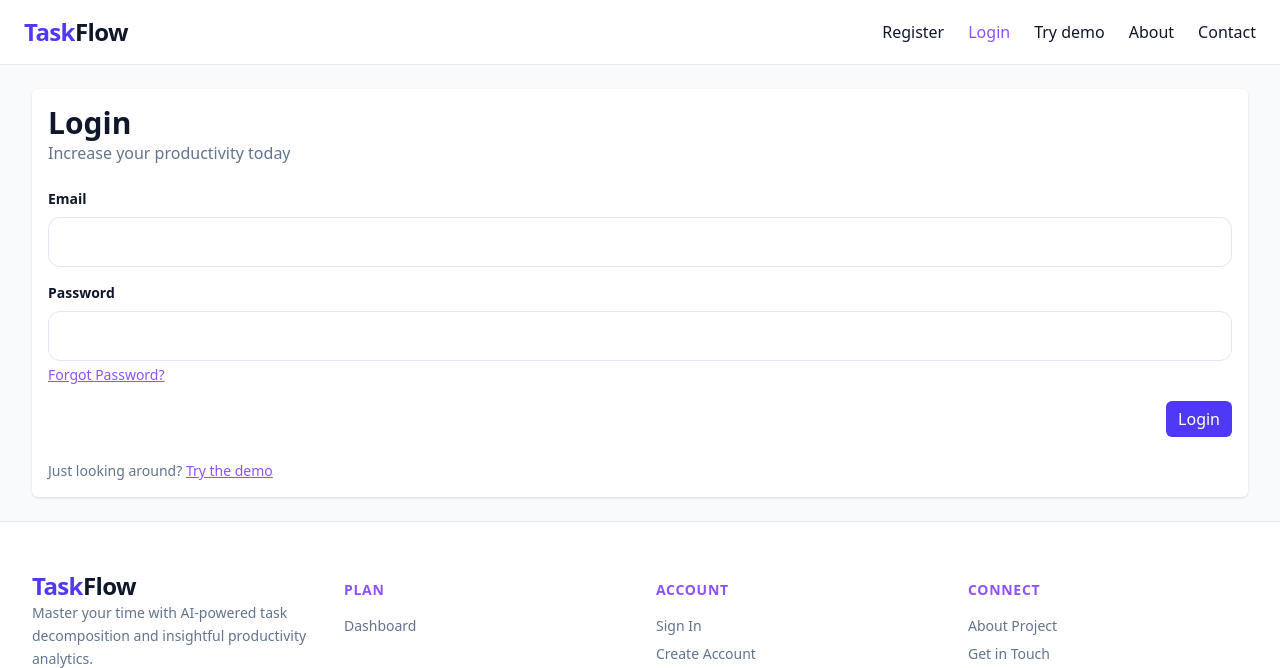
Test: signing in › shows a friendly message when the server is unavailable
Type "user@example.com" into the field labelled "Email".
click(640, 242); type("user@example.com")  # box [48,217,1232,267]
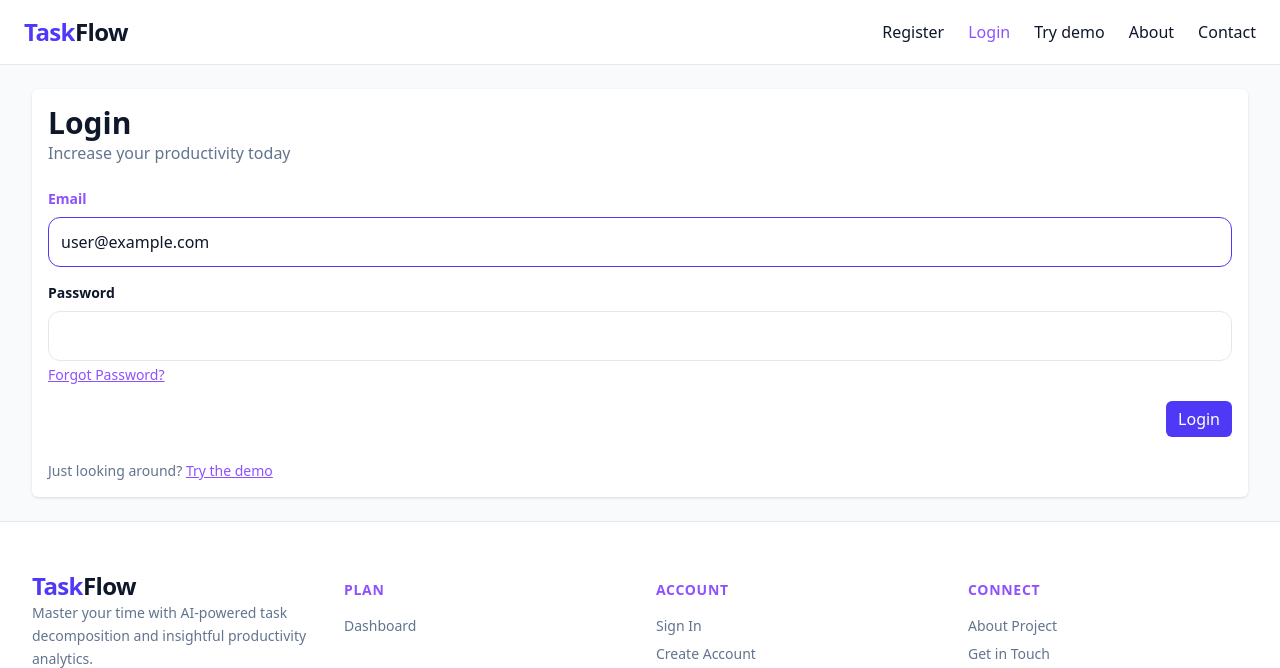
Type "Sturdy-pass9" into the password field labelled "Password".
click(640, 336); type("Sturdy-pass9")  # box [48,311,1232,361]
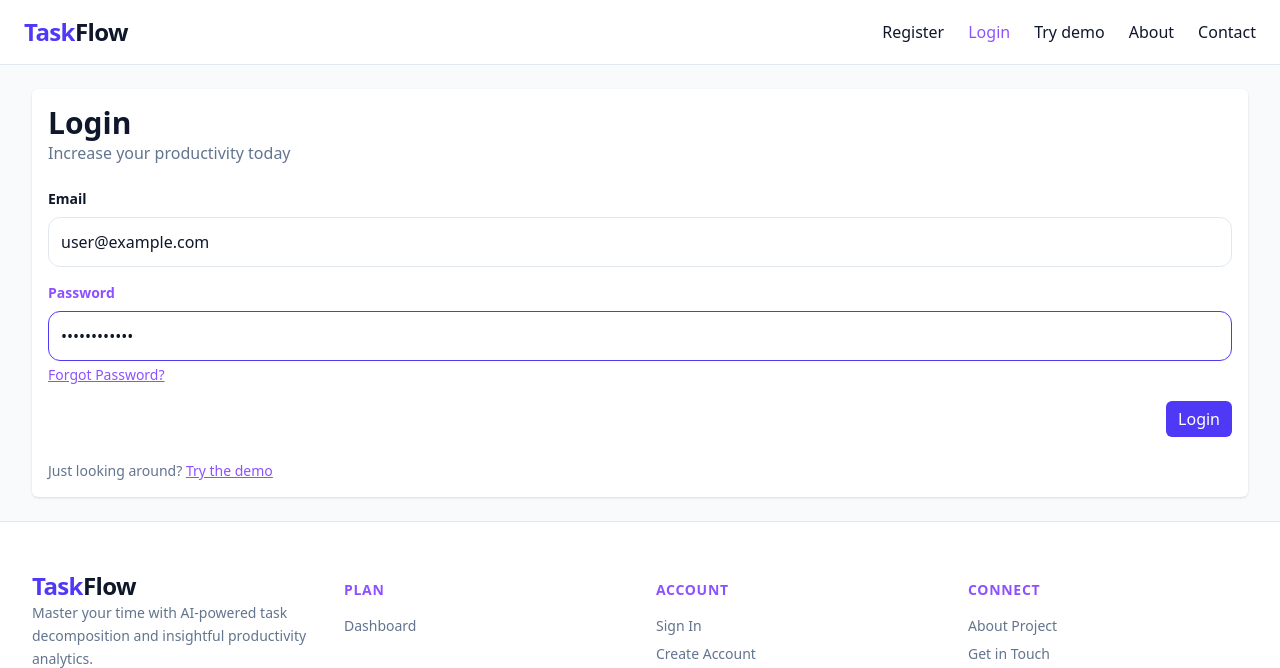
Click the button "Login".
click(1199, 419)  # box [1166,401,1232,437]
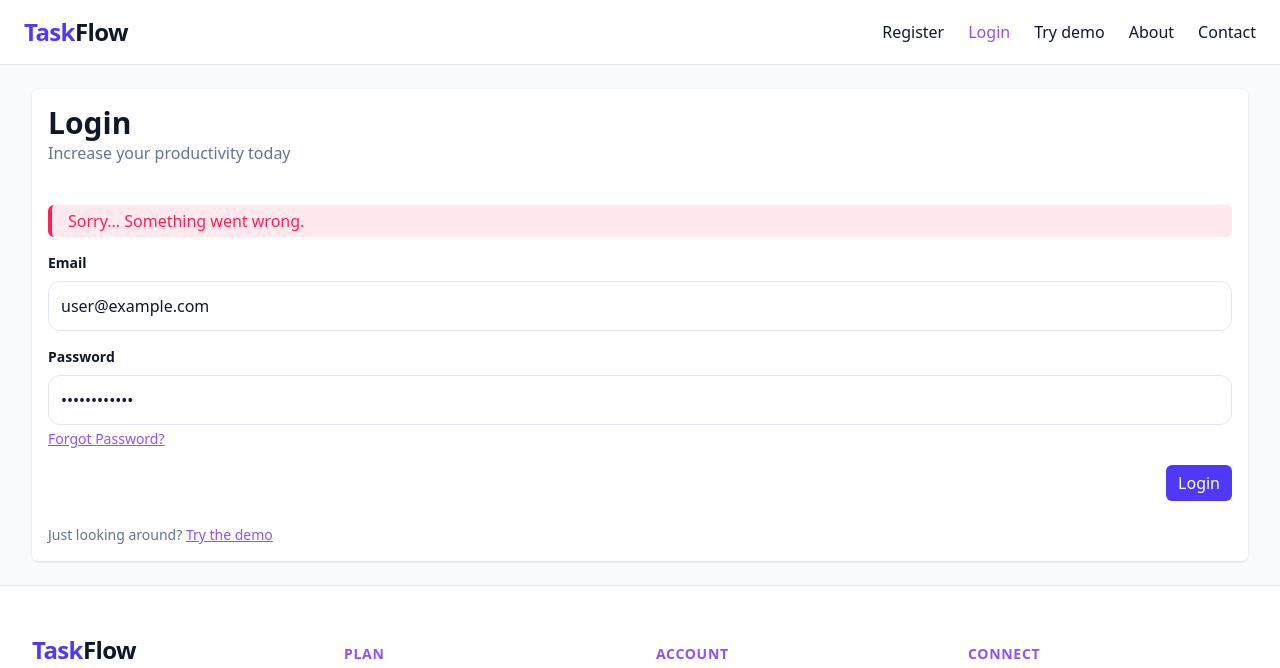
Now the text "Sorry... Something went wrong." is shown, box [48,205,1232,237]
